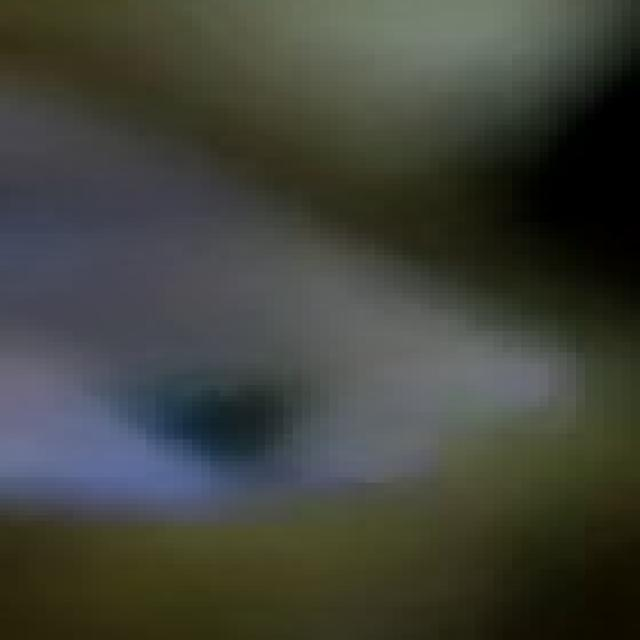fish: (9, 0, 640, 635)
